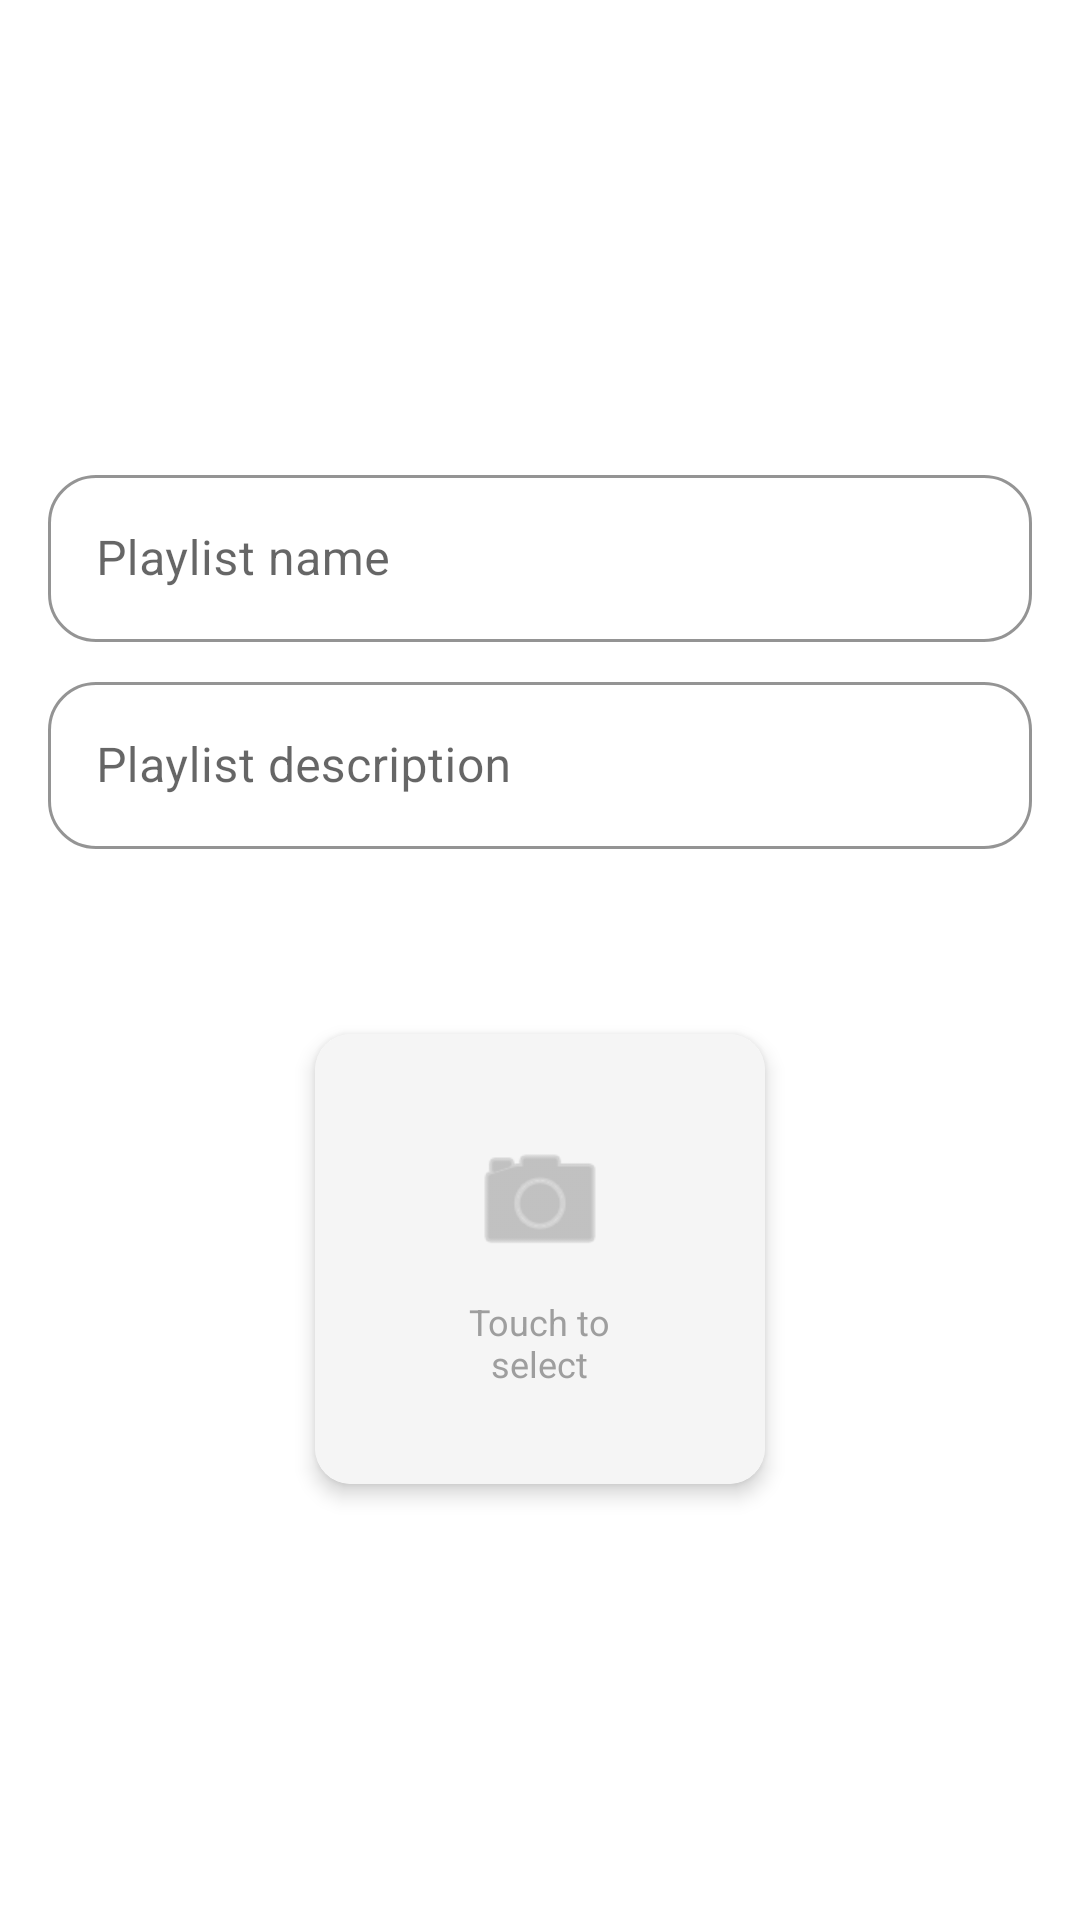

Icon bounding boxes for this 1080x1920 phone screenshot, format (x1, y1, x2, y2):
camera: (485, 1155, 595, 1242)
